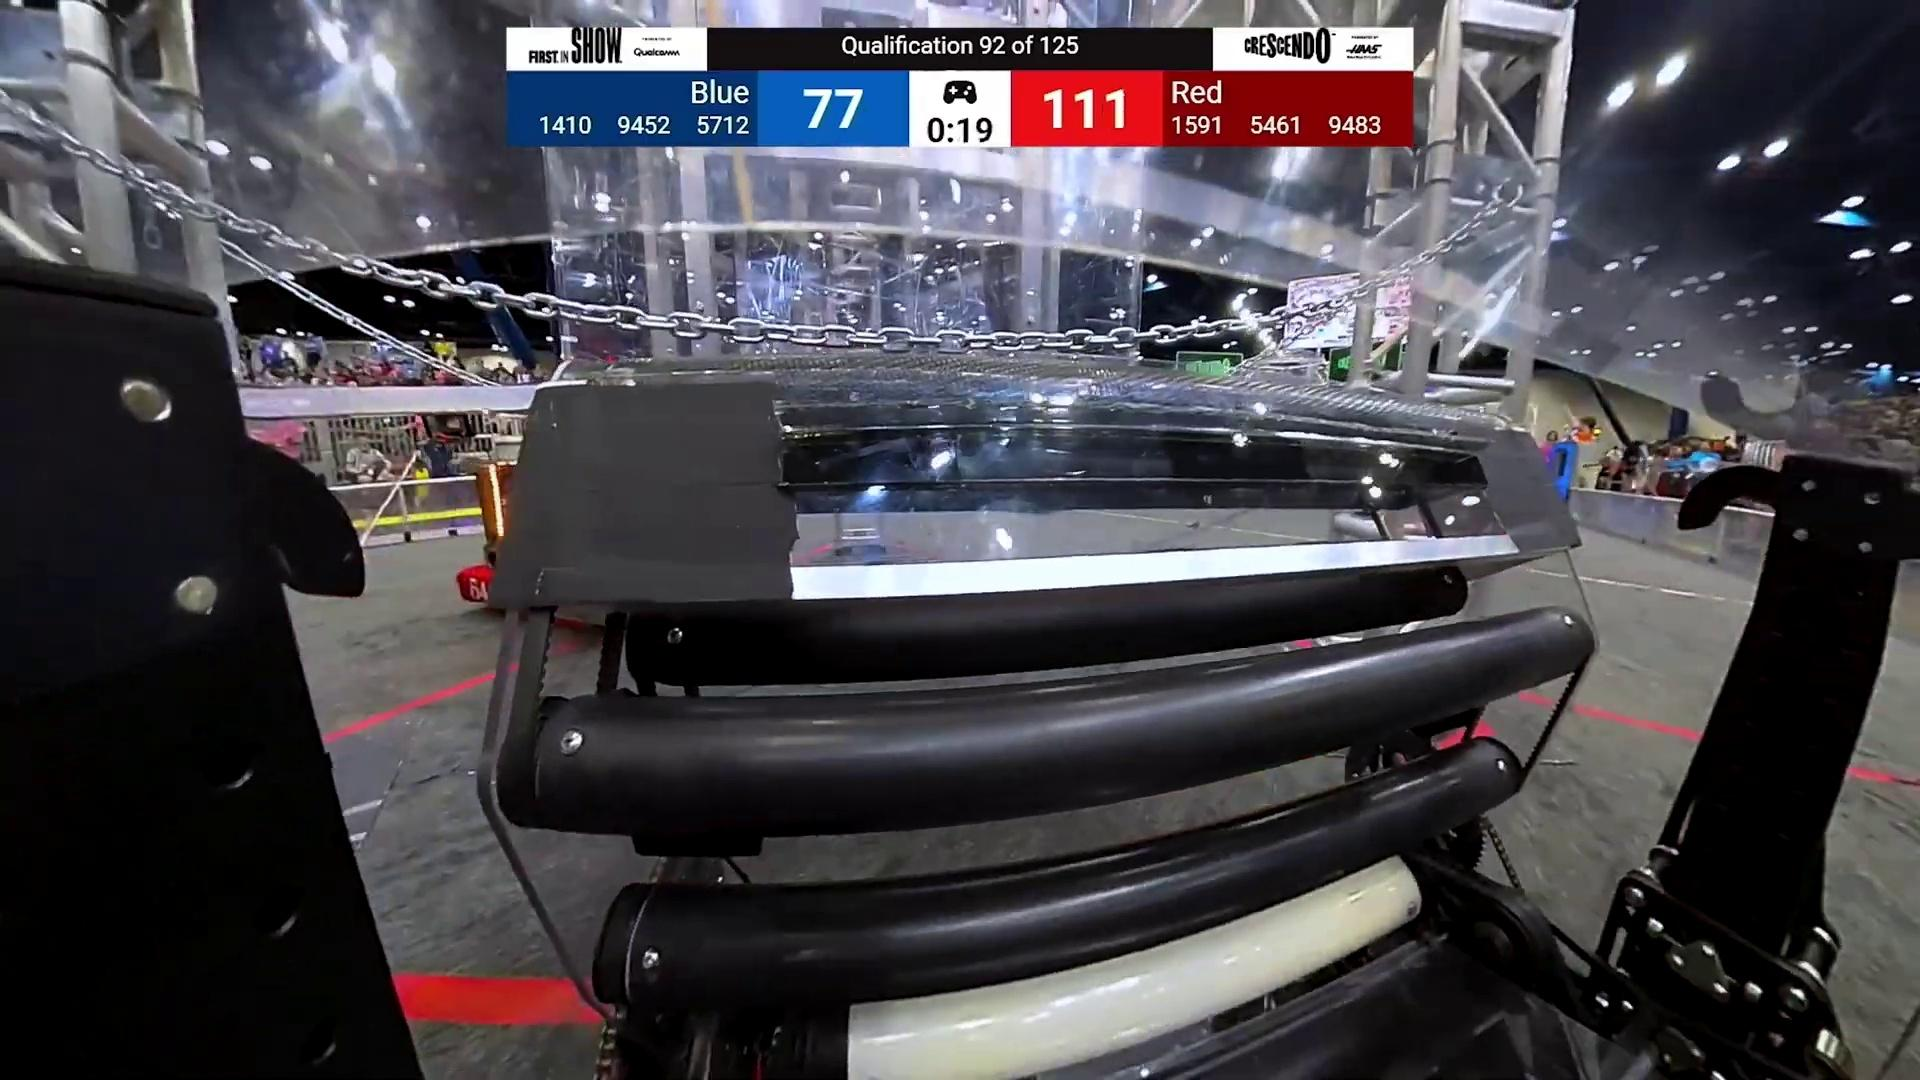robot: (456, 463, 516, 612)
